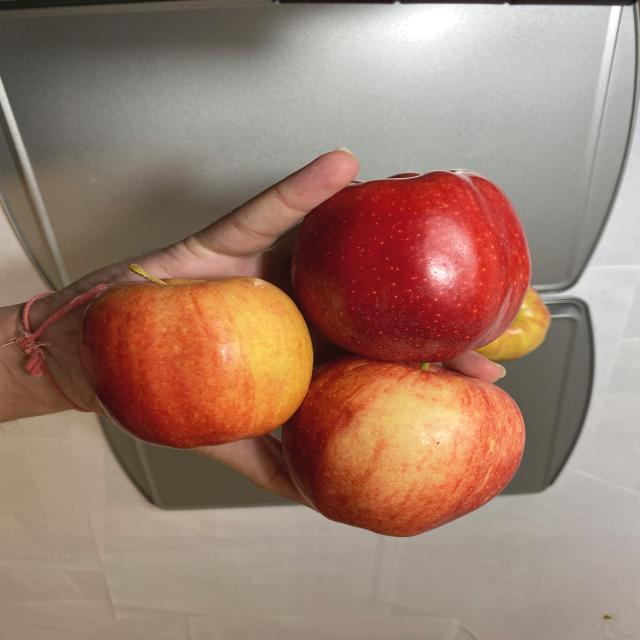apple: (70, 168, 553, 540)
